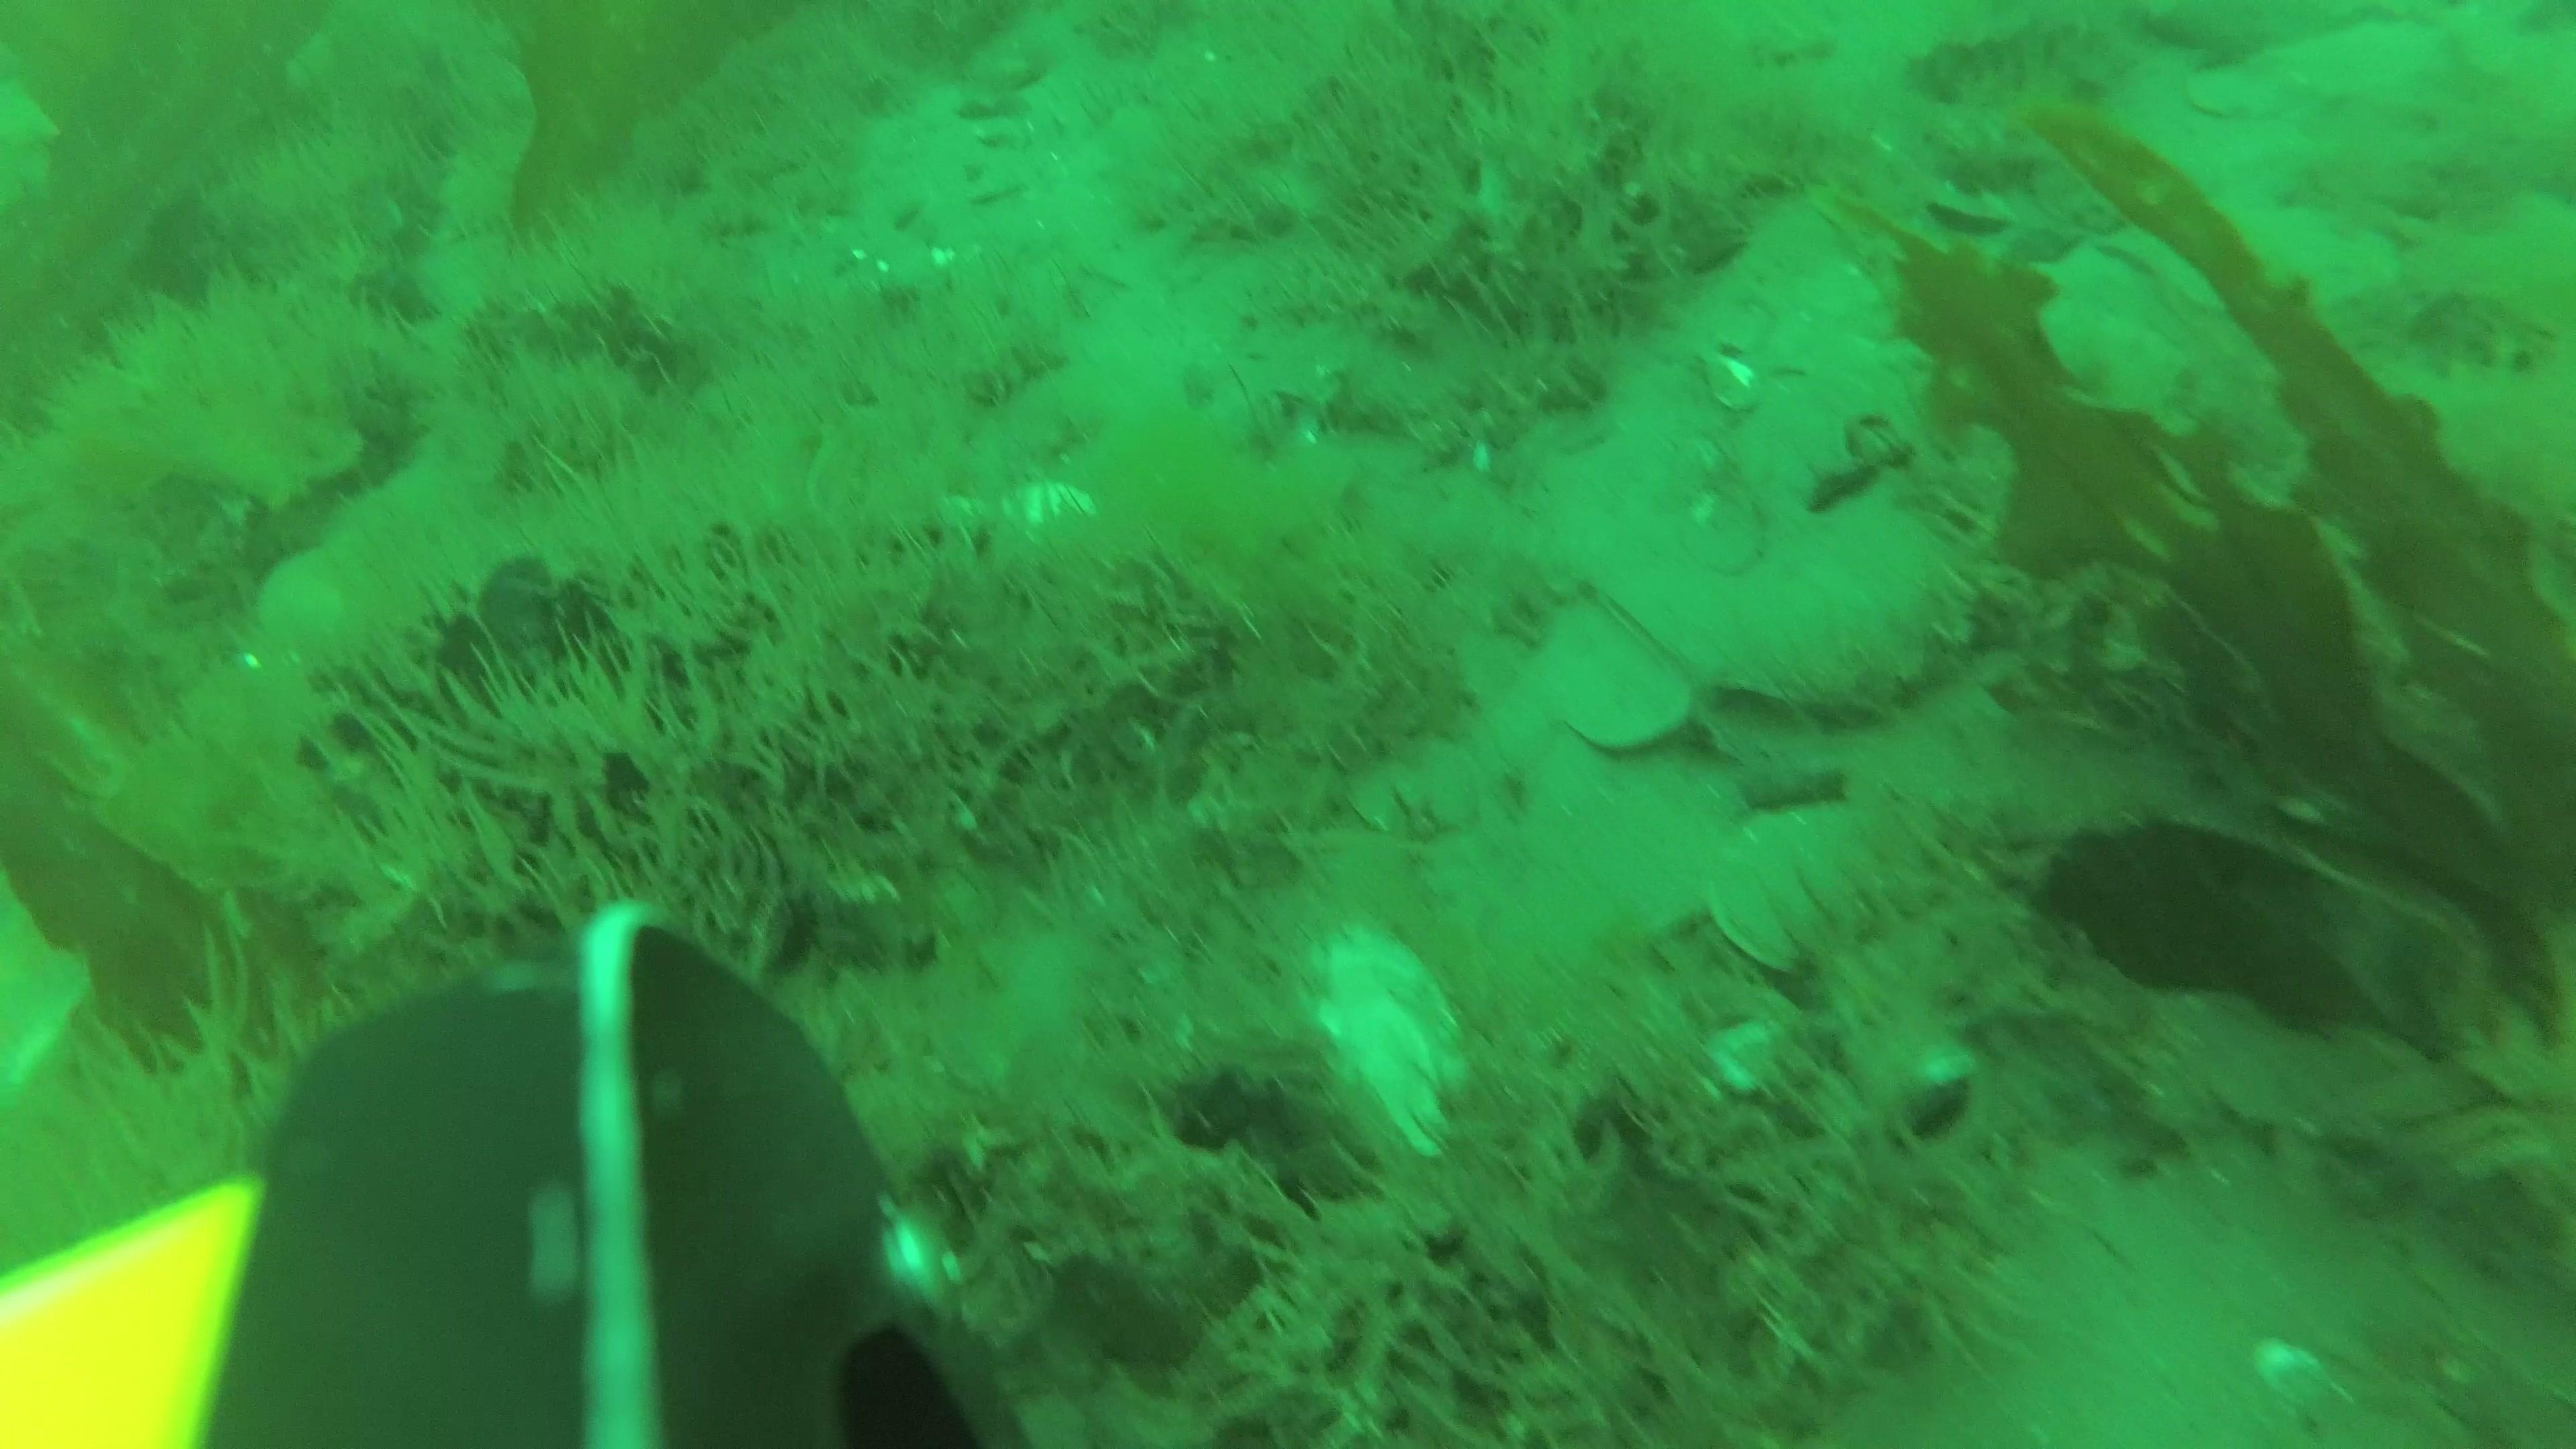scallop: (2167, 996, 2461, 1143), (287, 4, 527, 172), (1709, 800, 1913, 975), (2431, 352, 2576, 536), (1536, 600, 1693, 754), (253, 545, 403, 681), (2185, 65, 2284, 122)
